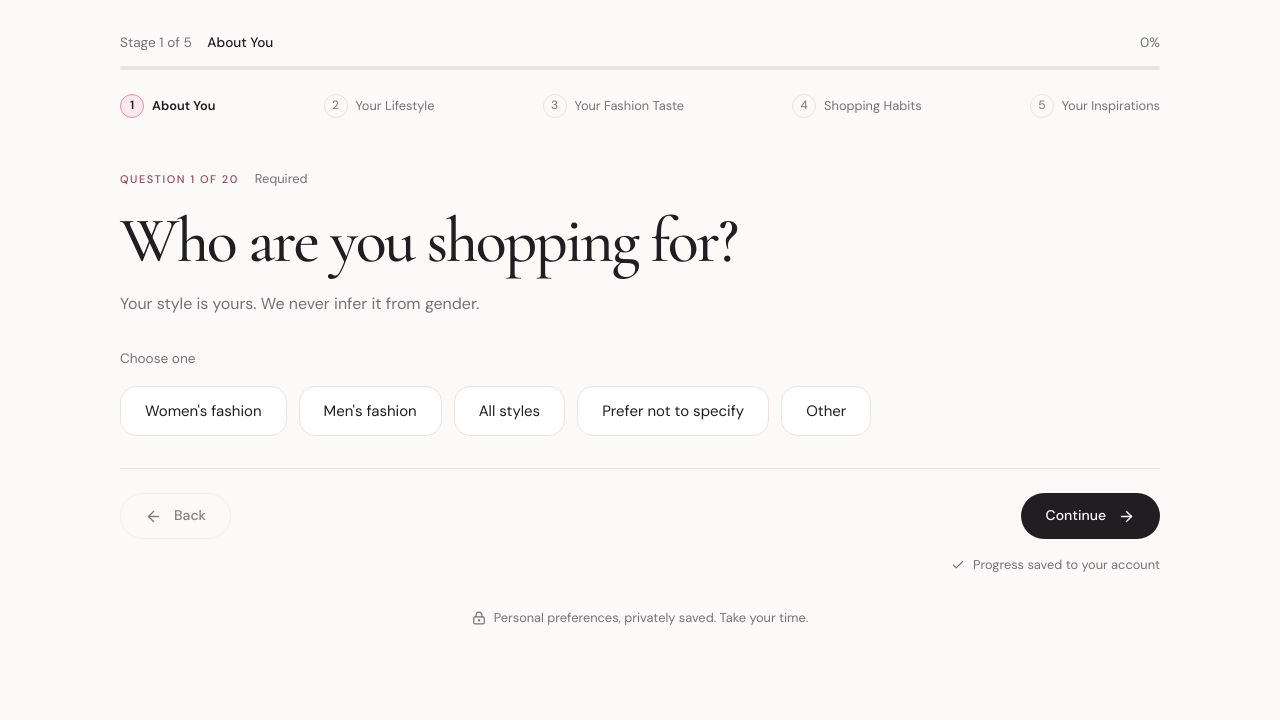
Test: navigates immediately during slow saves and coalesces pending drafts without losing answers
The image size is (1280, 720).
Expected: the heading "Who are you shopping for?" is shown, [120, 202, 737, 279]
Step 1. Click the button "Women's fashion" → click(203, 411), box [120, 386, 286, 436]
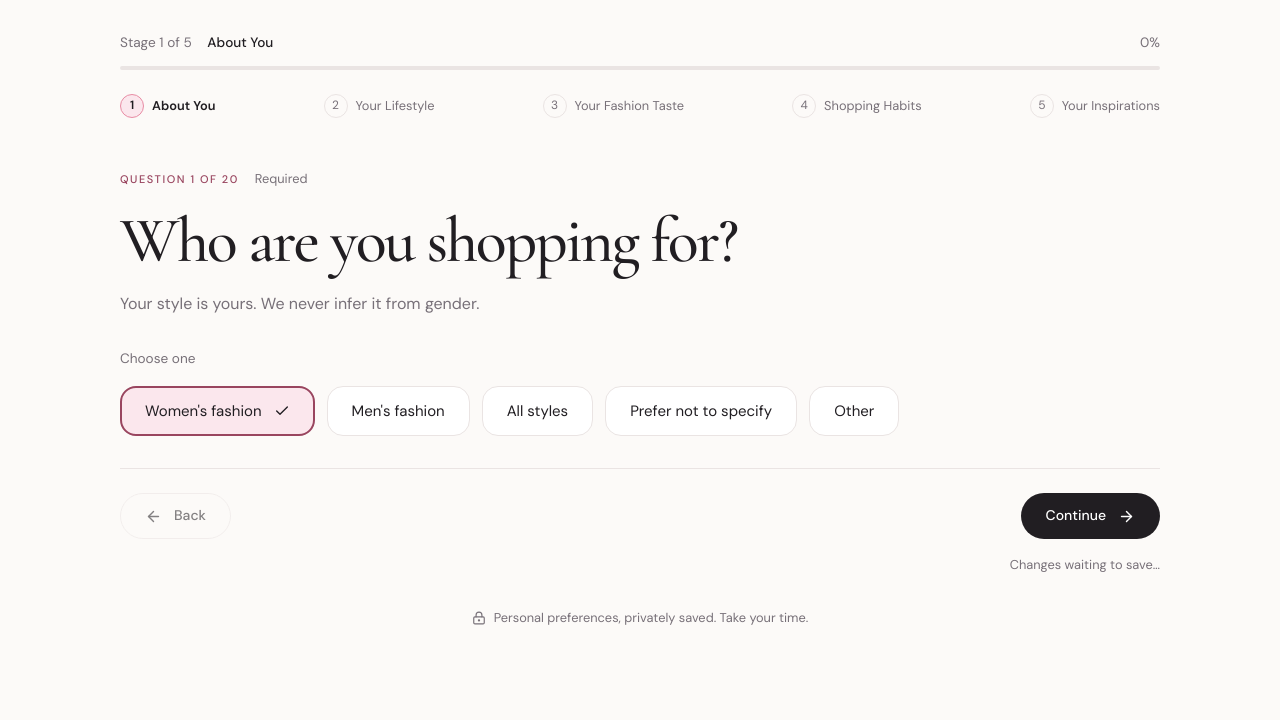
Step 2. Click the button "Continue" → click(1090, 516), box [1020, 493, 1160, 539]
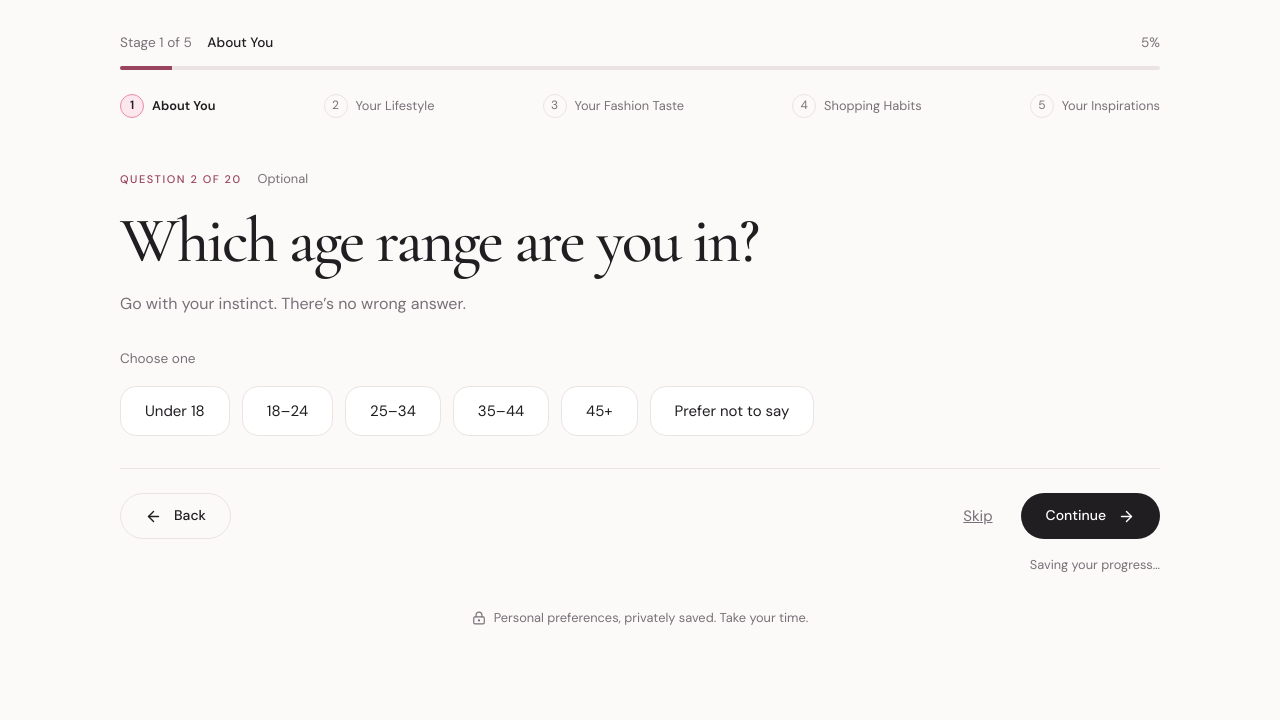
Now the heading shows "age range", box [120, 202, 758, 279]
Step 3. Click the button "18–24" → click(287, 411), box [242, 386, 333, 436]
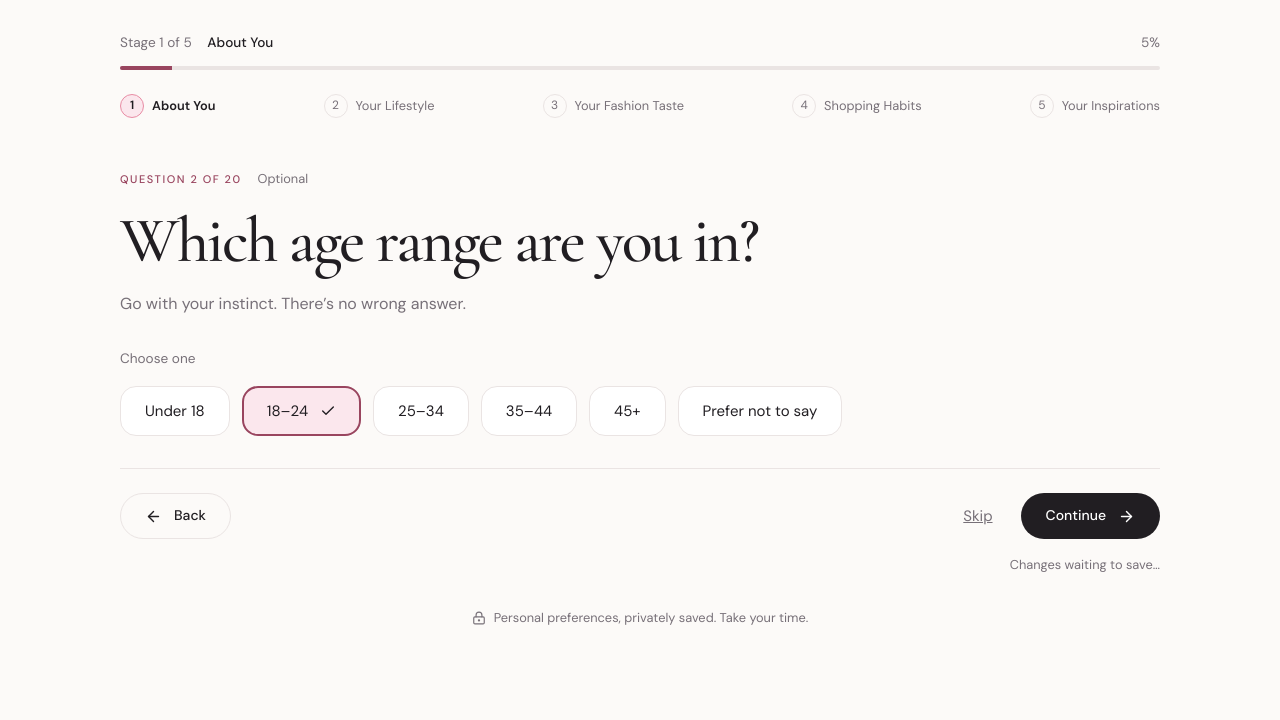
Step 4. Click the button "Continue" → click(1090, 516), box [1020, 493, 1160, 539]
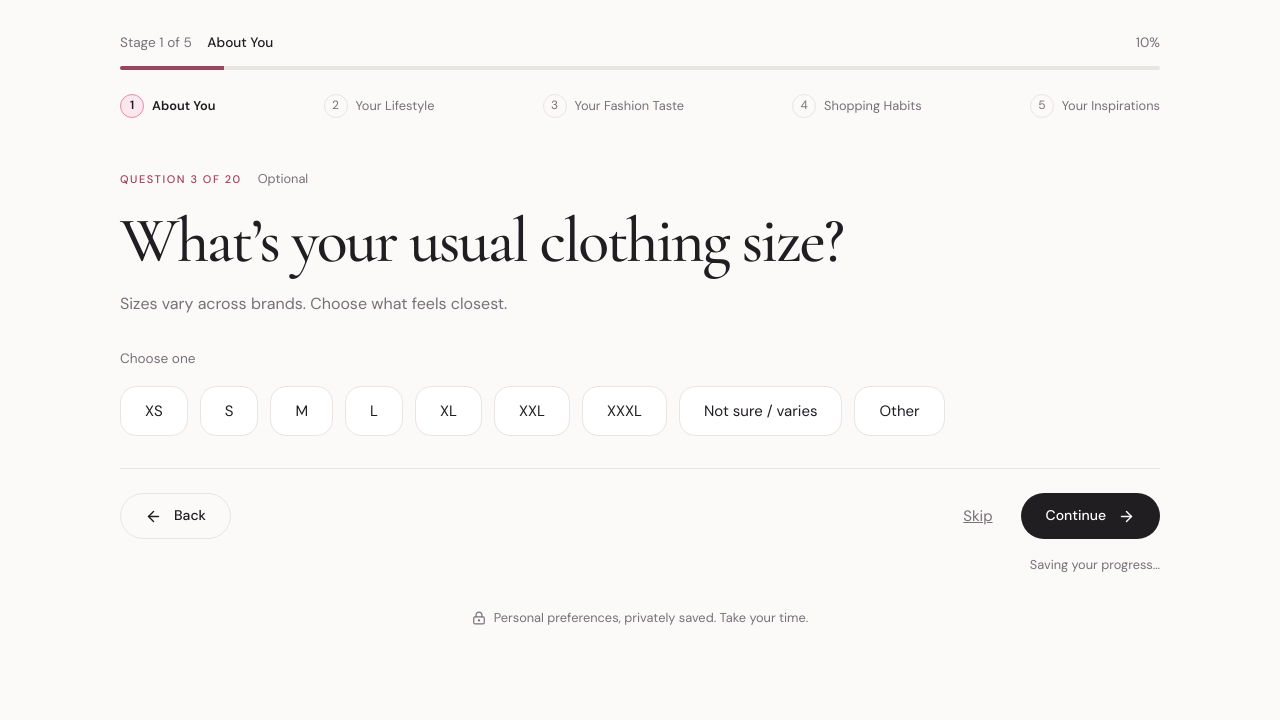
Step 5. Click the button "M" → click(302, 411), box [270, 386, 333, 436]
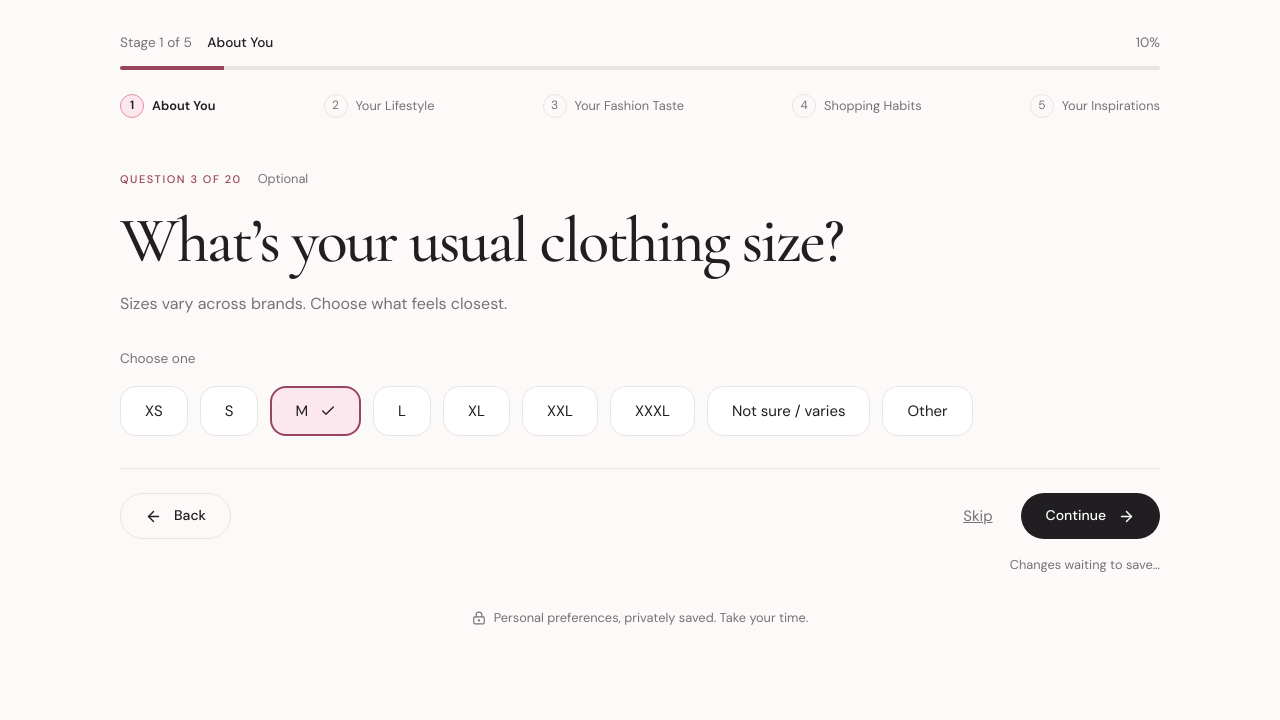
Step 6. Click the button "Continue" → click(1090, 516), box [1020, 493, 1160, 539]
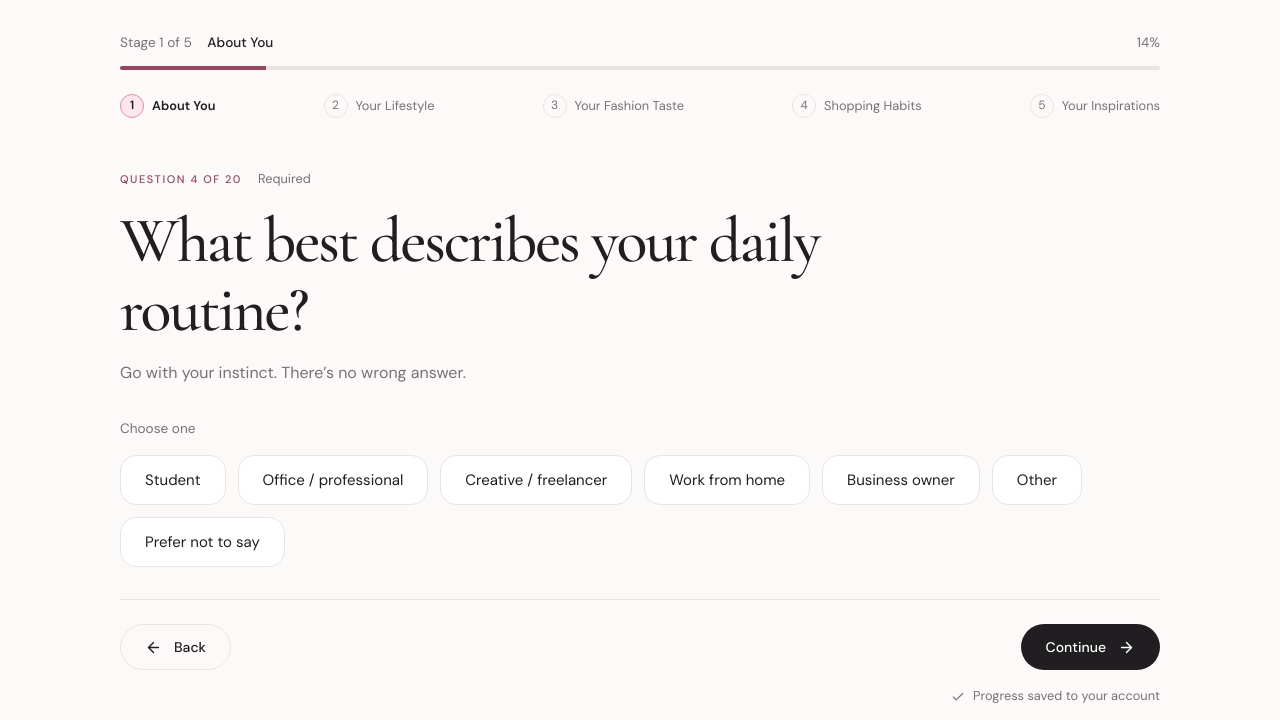
Now the heading shows "daily routine", box [120, 202, 819, 348]
